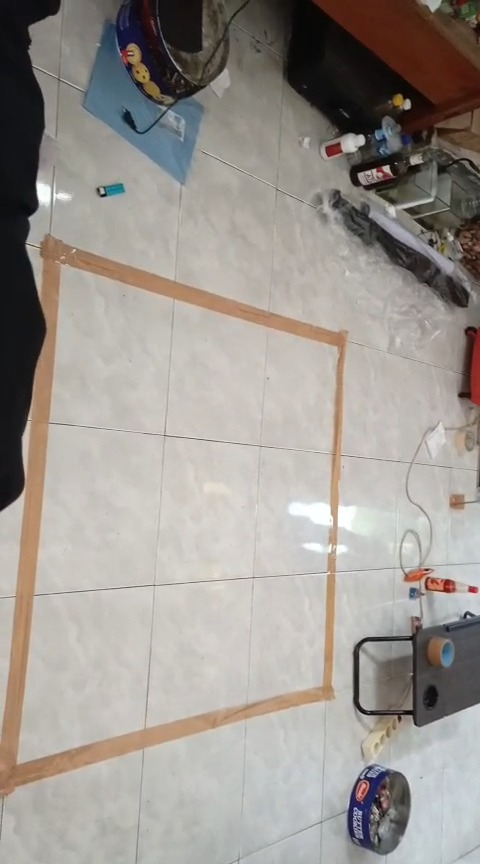floor marking: (0, 235, 346, 791)
